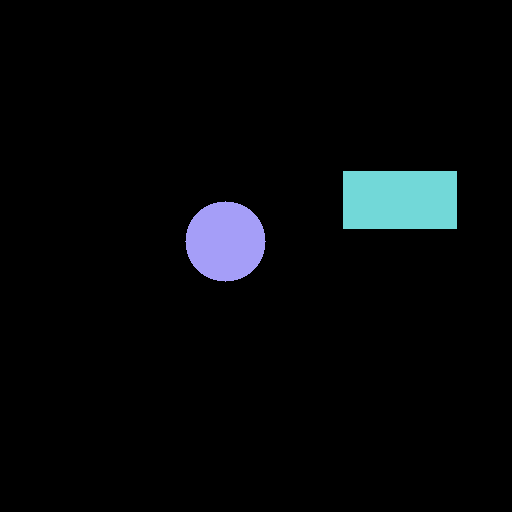circle: (185, 201, 265, 281)
rectangle: (343, 171, 456, 228)
